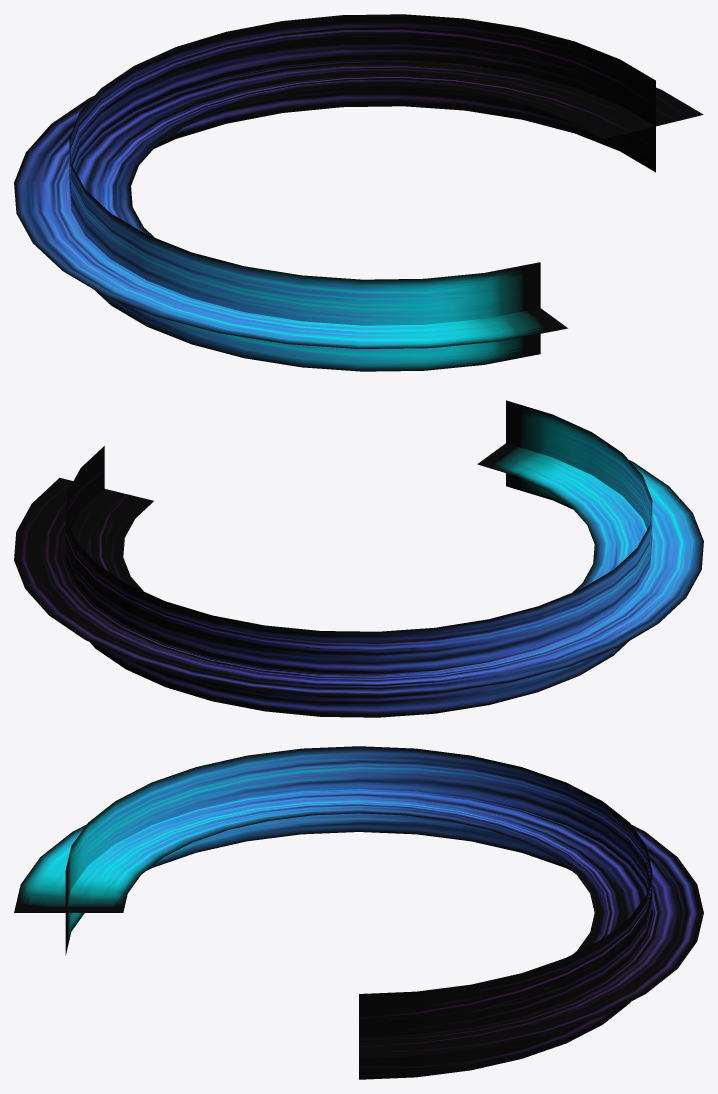
File: eff_mod_sonic_slidingkick01.model.fbx
3 views of the same model, one above another, from view 1: azimuth 30°, elevation 25°; view 2: azimuth 150°, elevation 25°; view 3: azimuth 270°, elevation 25° (orthographic). The views are drawn at different scales.
Parts seen in each view (by area): view 1: eff_mod_sonic_slidingkick01; view 2: eff_mod_sonic_slidingkick01; view 3: eff_mod_sonic_slidingkick01.
Boxes of the visible parts, box(x1,y1,x2,y2) form: eff_mod_sonic_slidingkick01: box(14, 14, 703, 371); eff_mod_sonic_slidingkick01: box(14, 400, 703, 717); eff_mod_sonic_slidingkick01: box(14, 746, 703, 1079).
Size of the model in its own units: 2 by 0.2743 by 2.
